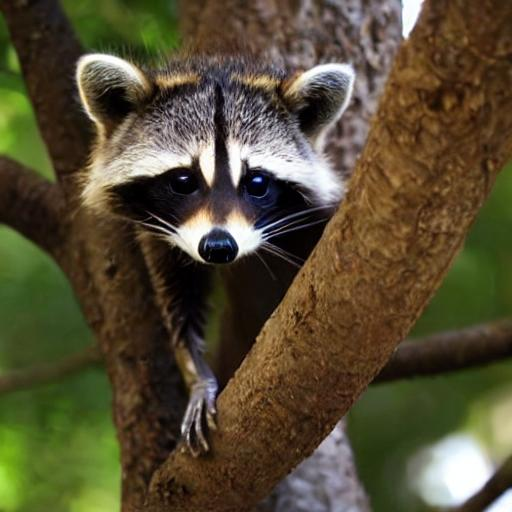raccoon: (62, 34, 359, 285)
